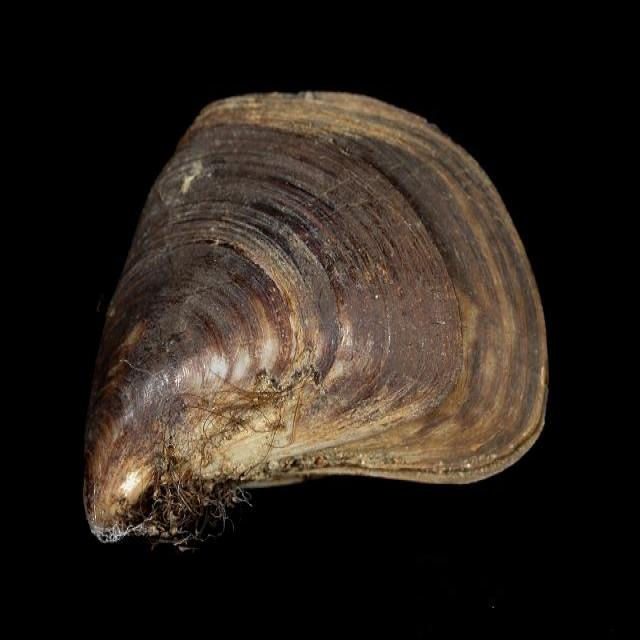Dreissena_bugensis: (82, 95, 548, 539)
